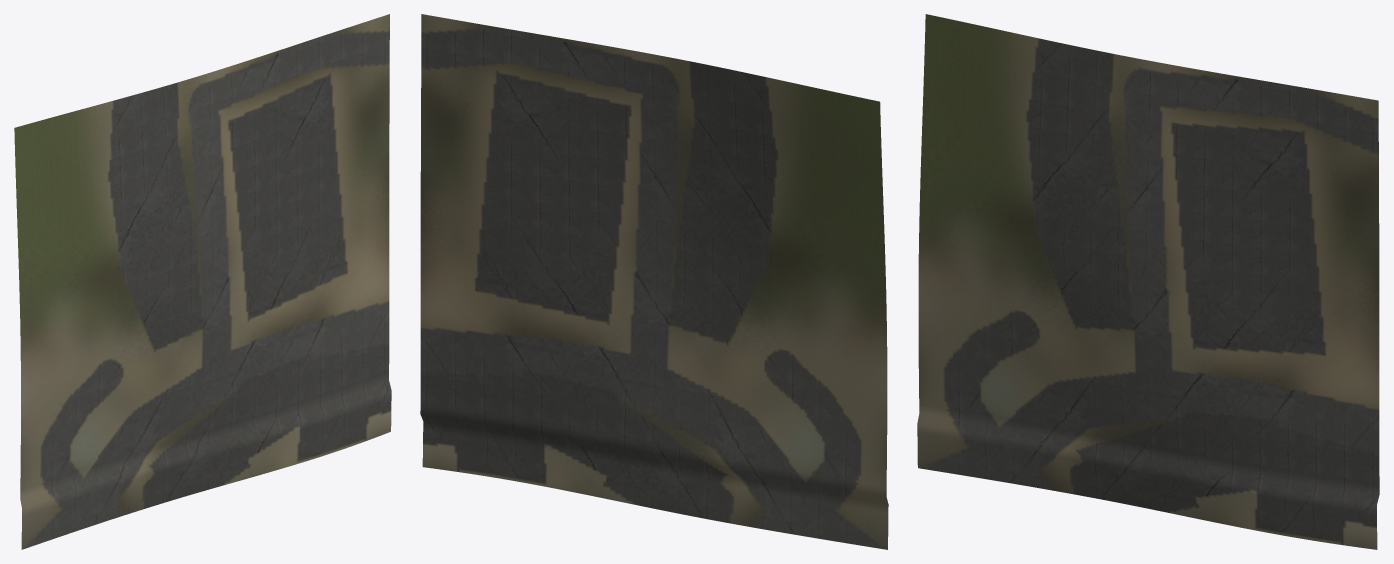
File: ground_core_05_06.obj
3 renders of one model, left to right at view 1: azimuth 30°, elevation 25°; view 2: azimuth 150°, elevation 25°; view 3: azimuth 330°, elevation 25°, orthographic. The views are drawn at different scales.
Parts seen in each view (by area): view 1: ground_core_05_06; view 2: ground_core_05_06; view 3: ground_core_05_06.
Part boxes in pixels (box(x1,y1,x2,y2)): ground_core_05_06: box(14, 14, 391, 549); ground_core_05_06: box(420, 14, 888, 549); ground_core_05_06: box(917, 14, 1379, 549).
Size of the model in its own units: 50 by 50 by 6.82.
1 material, 1 textured.
